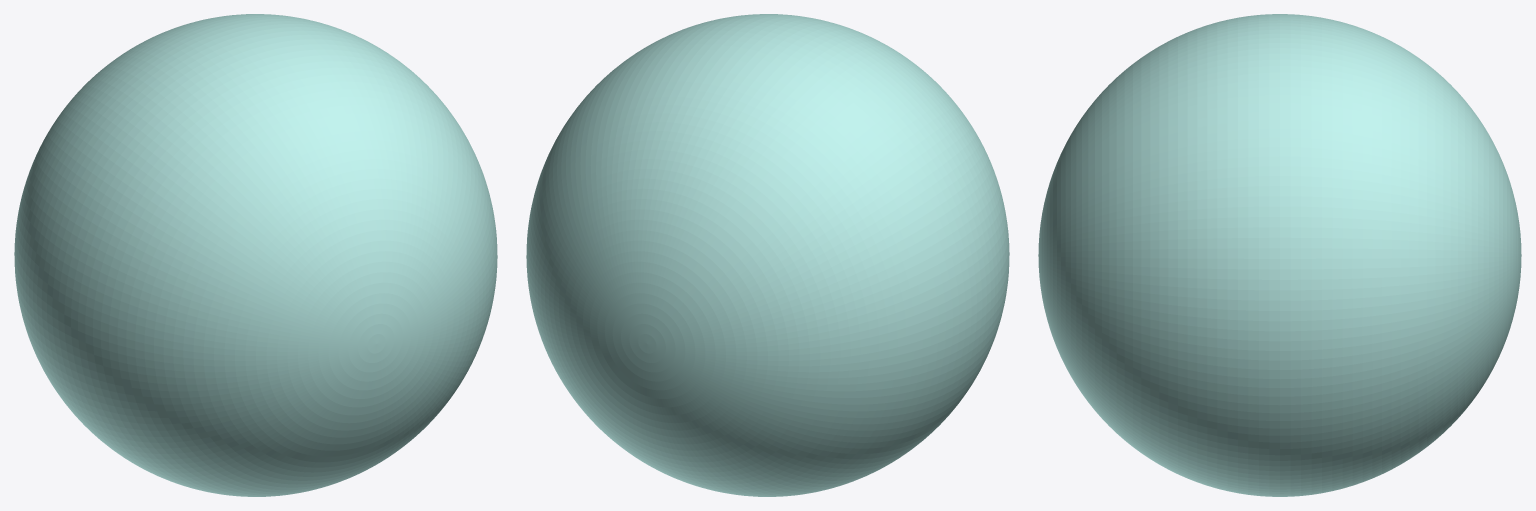
The model's file is EEZYbotARM_Mk2_robot_base_vis_20.dae.
3 views of the same model, side by side, from view 1: azimuth 30°, elevation 25°; view 2: azimuth 150°, elevation 25°; view 3: azimuth 270°, elevation 25° (orthographic).
Visible parts, largest first — view 1: node; view 2: node; view 3: node.
Part boxes in pixels (x1,y1,x2,y2): node: (14,14,497,496); node: (526,14,1009,496); node: (1038,14,1521,496).
Bounding box in the file's own units: 0.006 × 0.006 × 0.006.
